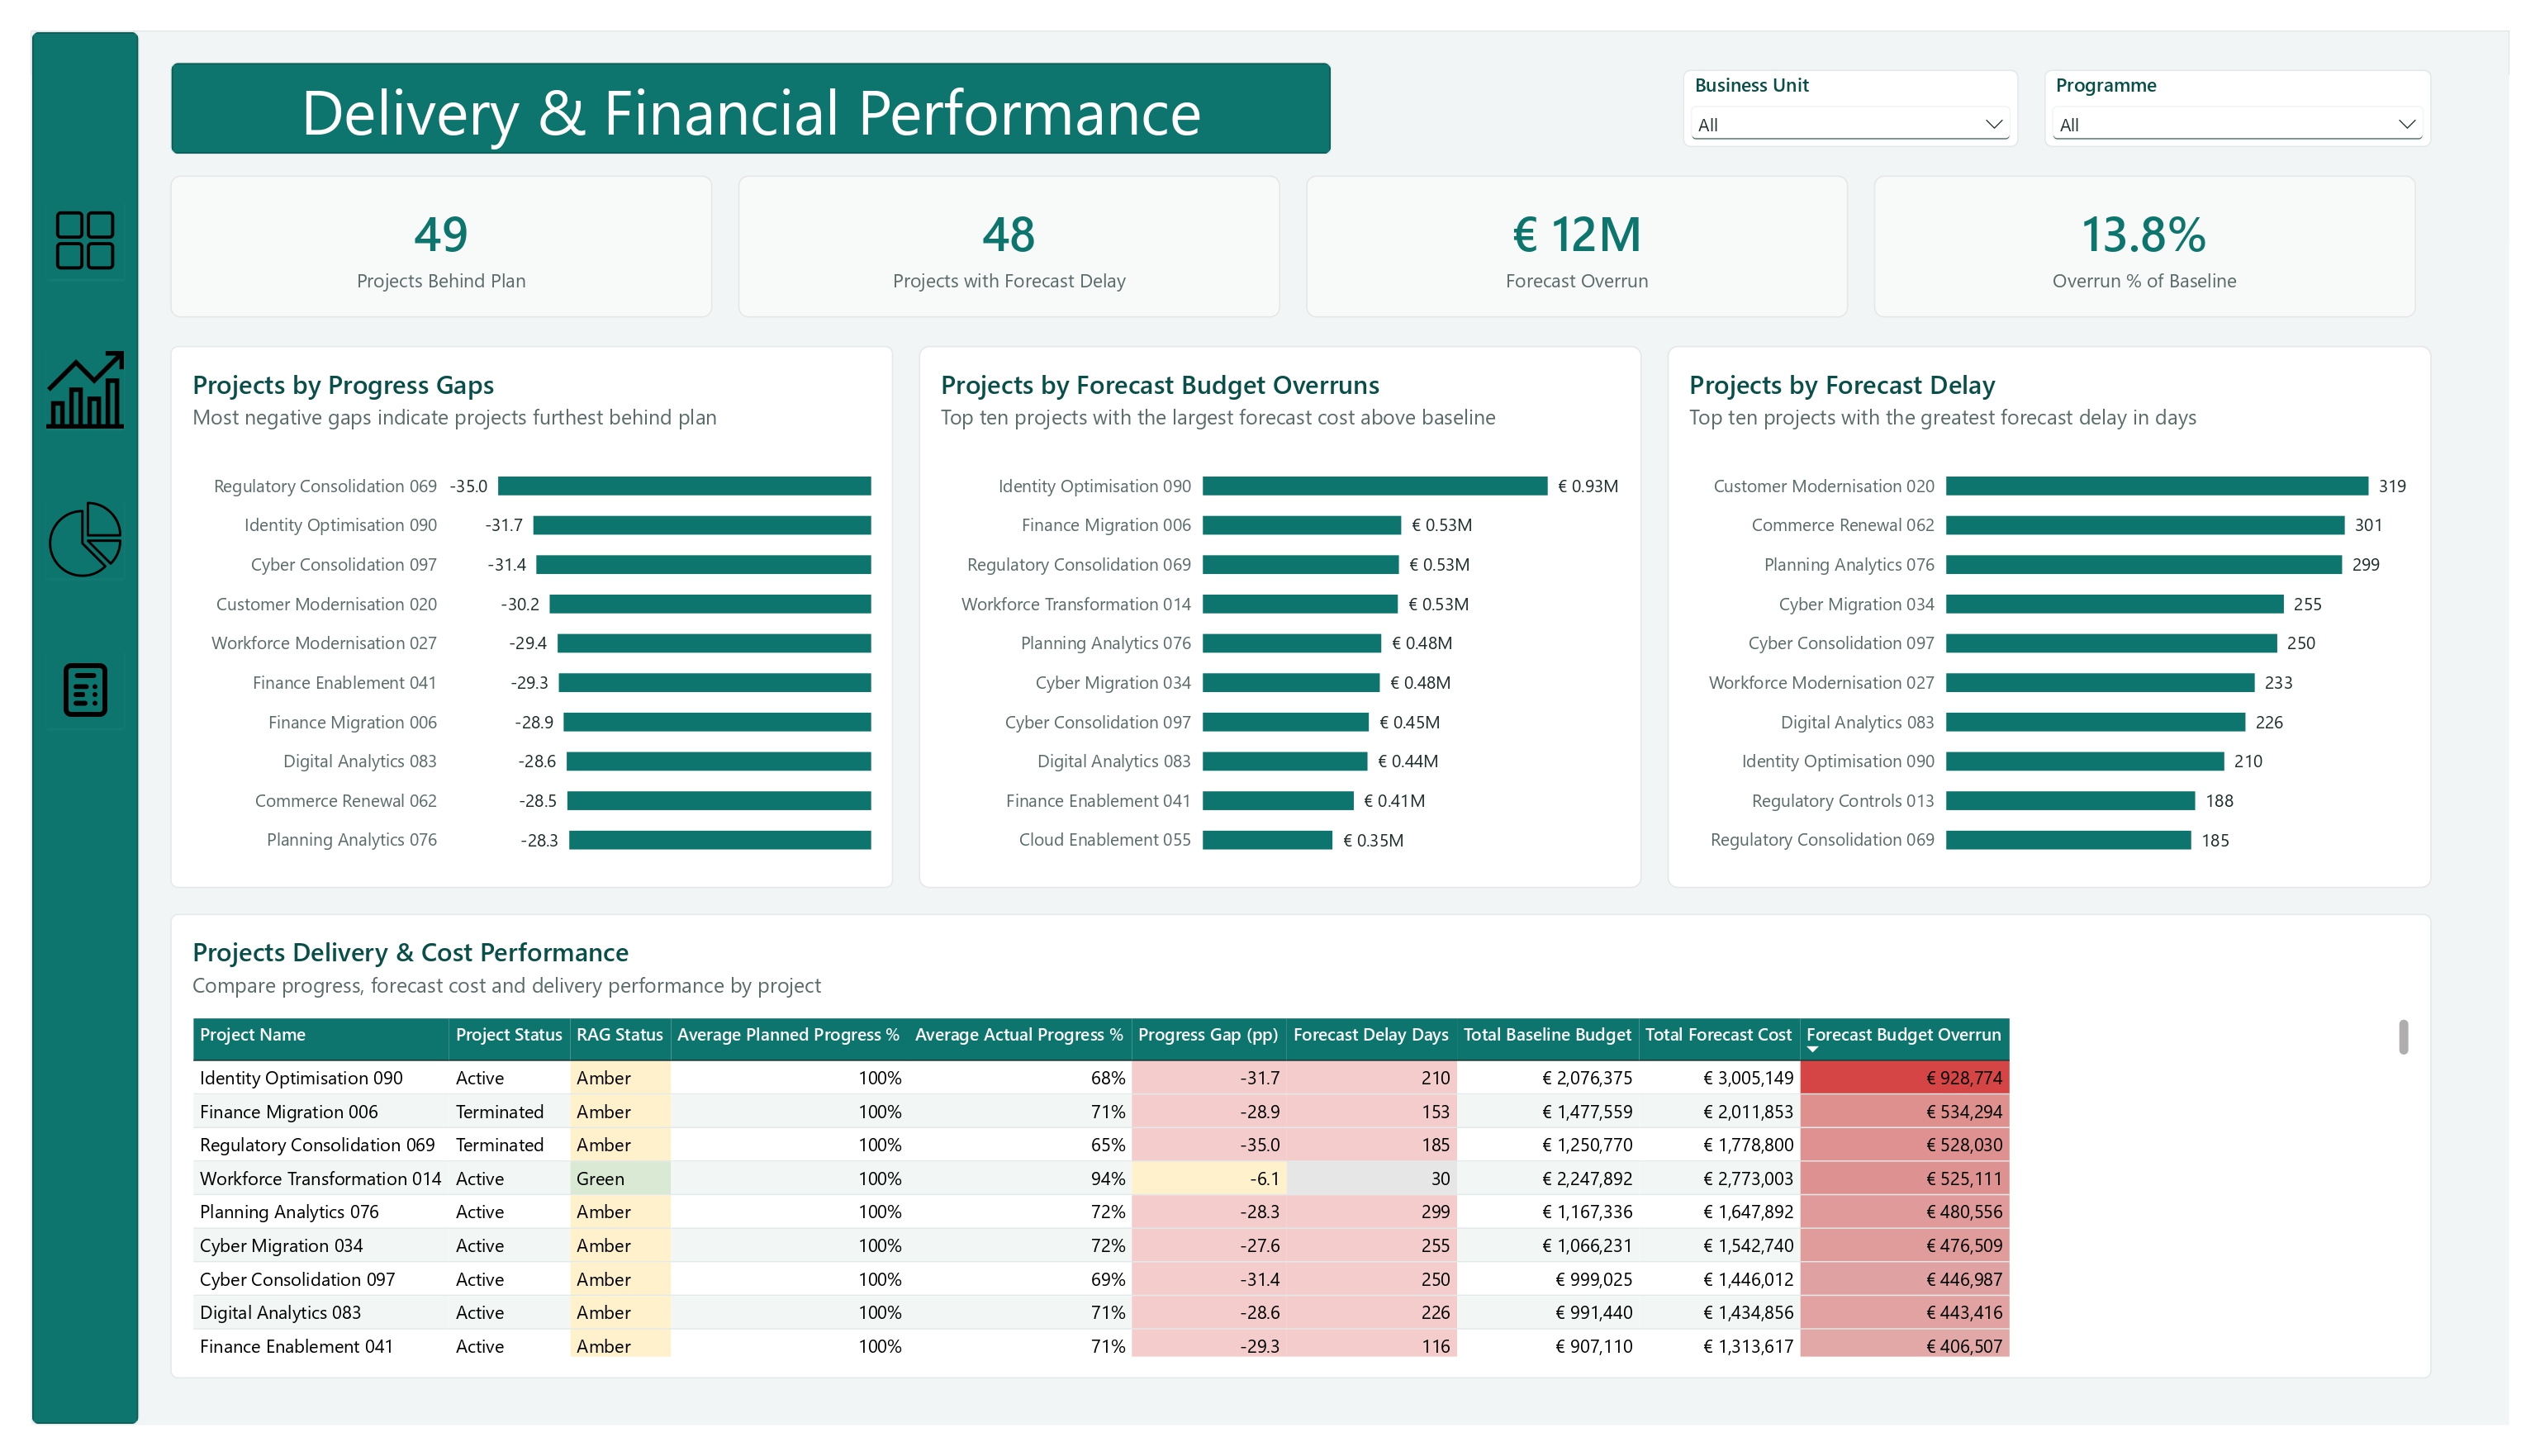

The dashboard page shown, as its layout file describes it:
{"tool":"powerbi","page":{"name":"Delivery & Financial Performance","canvas":[1920,1080],"ordinal":1},"visuals":[{"type":"card","fields":{"Values":["Measures (2).Projects Behind Plan"]},"box":[108,112,420,110],"z":0},{"type":"card","fields":{"Values":["Measures (2).Projects with Forecast Delay"]},"box":[548,112,420,110],"z":1000},{"type":"card","fields":{"Values":["Measures (2).Forecast Budget Overrun %"]},"box":[1428,112,420,110],"z":2000},{"type":"card","fields":{"Values":["Measures (2).Forecast Budget Overrun"]},"box":[988,112,420,110],"z":3000},{"type":"barChart","title":"Projects by Progress Gaps","fields":{"Category":["DimProjectTable.ProjectName"],"Y":["Measures (2).Progress Gap (pp)"]},"box":[108,244,560,420],"z":4000},{"type":"clusteredBarChart","title":"Projects by Forecast Budget Overruns","fields":{"Category":["DimProjectTable.ProjectName"],"Y":["Measures (2).Forecast Budget Overrun"]},"box":[688,244,560,420],"z":5000},{"type":"barChart","title":"Projects by Forecast Delay ","fields":{"Category":["DimProjectTable.ProjectName"],"Y":["Measures (2).Maximum Forecast Delay (Days)"]},"box":[1268,244,592,420],"z":6000},{"type":"tableEx","title":"Projects Delivery & Cost Performance","fields":{"Values":["DimProjectTable.ProjectName","CurrentProjectSnapshot.ProjectStatus","CurrentProjectSnapshot.RAGStatus","Measures (2).Average Planned Progress %","Measures (2).Average Actual Progress %","Measures (2).Progress Gap (pp)","CurrentProjectSnapshot.ForecastDelayDays","Measures (2).Total Baseline Budget","Measures (2).Total Forecast Cost","Measures (2).Forecast Budget Overrun"]},"box":[108,684,1752,360],"z":7000},{"type":"slicer","fields":{"Values":["DimProgrammeTable.ProgrammeName"]},"box":[1560,30,300,60],"z":8000},{"type":"slicer","fields":{"Values":["DimBusinessUnitTable.BusinessUnitName"]},"box":[1280,30,260,60],"z":9000},{"type":"shape","box":[0,0,84,1080],"z":10000},{"type":"shape","box":[108,24,900,72],"z":11000},{"type":"actionButton","box":[12,364,60,60],"z":11001},{"type":"actionButton","box":[12,248,60,60],"z":11002},{"type":"actionButton","box":[12,132,60,60],"z":11003},{"type":"actionButton","box":[12,480,60,60],"z":11004}]}

Visuals, with their boxes on the page's 1920x1080 design canvas (x1, y1, x2, y2). These are canvas units, not pixel positions in the 2540x1456 screenshot, which may show the page scaled, cropped or inside an application window:
card - Measures (2).Projects Behind Plan: (108,112,528,222)
card - Measures (2).Projects with Forecast Delay: (548,112,968,222)
card - Measures (2).Forecast Budget Overrun %: (1428,112,1848,222)
card - Measures (2).Forecast Budget Overrun: (988,112,1408,222)
"Projects by Progress Gaps" barChart: (108,244,668,664)
"Projects by Forecast Budget Overruns" clusteredBarChart: (688,244,1248,664)
"Projects by Forecast Delay " barChart: (1268,244,1860,664)
"Projects Delivery & Cost Performance" tableEx: (108,684,1860,1044)
slicer - DimProgrammeTable.ProgrammeName: (1560,30,1860,90)
slicer - DimBusinessUnitTable.BusinessUnitName: (1280,30,1540,90)
shape: (0,0,84,1080)
shape: (108,24,1008,96)
actionButton: (12,364,72,424)
actionButton: (12,248,72,308)
actionButton: (12,132,72,192)
actionButton: (12,480,72,540)
